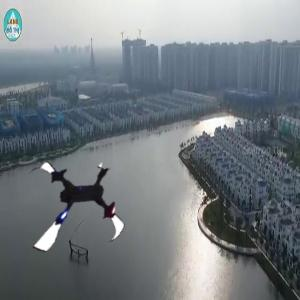drone: (17, 150, 133, 266)
